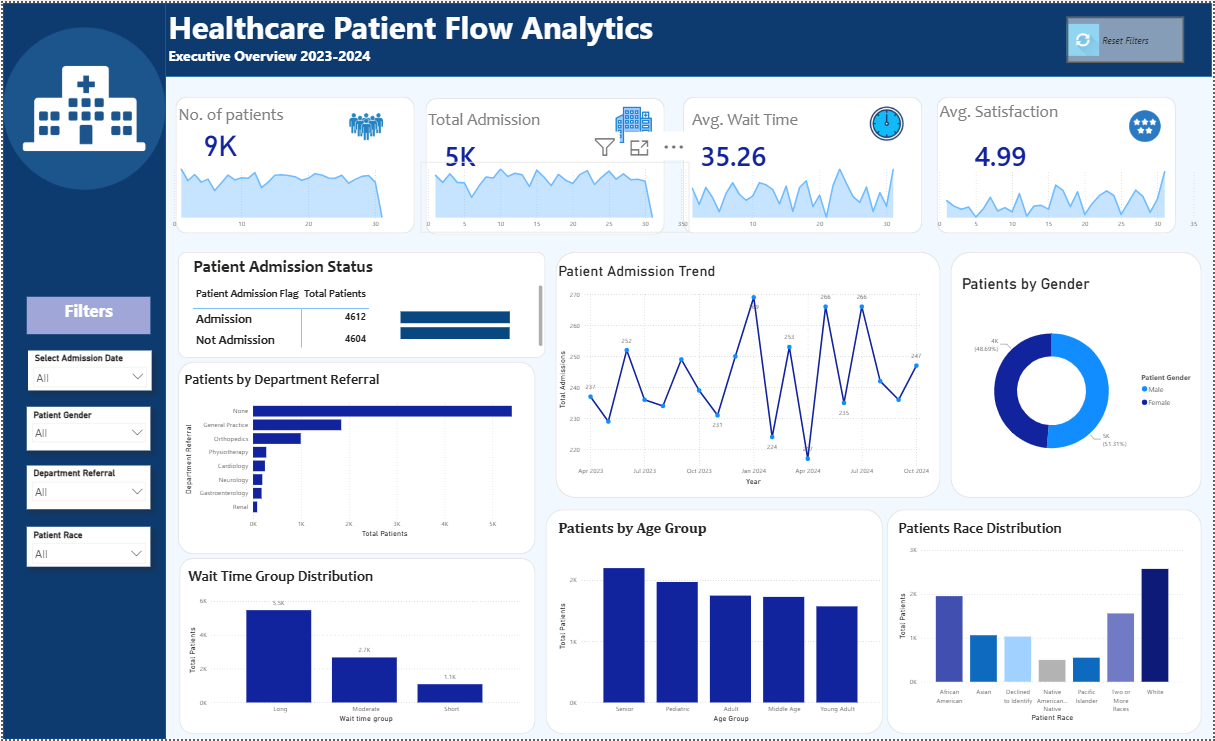

Layout of this report page (visuals, bound fields, positions):
{"tool":"powerbi","page":{"name":"Page 1","canvas":[2300,1400],"ordinal":0},"visuals":[{"type":"group","id":"g1","title":"Group 5","box":[0,0,310,1400.5],"z":0},{"type":"shape","box":[309.1,0,1990.2,140],"z":1000},{"type":"textbox","box":[309.1,0,939.2,140.3],"z":2000},{"type":"slicer","fields":{"Values":["healthcare_analytics_patient_flow_data.Patient Admission Date.Variation.Date Hierarchy.Year","healthcare_analytics_patient_flow_data.Patient Admission Date.Variation.Date Hierarchy.Month","healthcare_analytics_patient_flow_data.Patient Admission Date.Variation.Date Hierarchy.Day"]},"box":[47.6,661,235.4,76.1],"z":3000},{"type":"shape","box":[328.1,178.3,455,260],"z":4000},{"type":"cardVisual","fields":{"Data":["healthcare_analytics_patient_flow_data.Total Patients"]},"box":[356.7,235.4,218.8,71.3],"z":5000},{"type":"textbox","box":[328.1,187.8,328.1,59.4],"z":6000},{"type":"areaChart","fields":{"Y":["healthcare_analytics_patient_flow_data.Total Patients"],"Category":["healthcare_analytics_patient_flow_data.Patient Admission Date.Variation.Date Hierarchy.Day"]},"box":[311.5,302,475.5,135.5],"z":7000},{"type":"image","box":[646.7,202.1,88,66.6],"z":8000},{"type":"shape","box":[803.7,180.7,455,260],"z":9000},{"type":"shape","box":[1293.5,178.3,455,260],"z":10000},{"type":"shape","box":[1776.2,178.3,455,260],"z":11000},{"type":"textbox","box":[1305.4,197.4,290.1,73.7],"z":12000},{"type":"cardVisual","fields":{"Data":["healthcare_analytics_patient_flow_data.Average Wait Time"]},"box":[1326.8,247.3,154.6,83.2],"z":13000},{"type":"image","box":[1640.6,187.8,80.8,83.2],"z":14000},{"type":"image","box":[1150.8,195,97.5,73.7],"z":15000},{"type":"image","box":[2125.7,187.8,92.7,92.7],"z":16000},{"type":"cardVisual","fields":{"Data":["healthcare_analytics_patient_flow_data.Average Satisfaction"]},"box":[1819,247.3,185.5,83.2],"z":17000},{"type":"textbox","box":[803.7,197.4,368.5,71.3],"z":18000},{"type":"cardVisual","fields":{"Data":["healthcare_analytics_patient_flow_data.Total Admissions"]},"box":[810.8,247.3,137.9,83.2],"z":19000},{"type":"textbox","box":[1776.2,180.7,349.5,66.6],"z":20000},{"type":"areaChart","fields":{"Category":["healthcare_analytics_patient_flow_data.Patient Admission Date.Variation.Date Hierarchy.Day"],"Y":["healthcare_analytics_patient_flow_data.Total Admissions"]},"box":[794.2,302,511.2,135.5],"z":21000},{"type":"areaChart","fields":{"Category":["healthcare_analytics_patient_flow_data.Patient Admission Date.Variation.Date Hierarchy.Day"],"Y":["Avg(healthcare_analytics_patient_flow_data.Patient Waittime)"]},"box":[1284,302,475.5,135.5],"z":22000},{"type":"areaChart","fields":{"Y":["healthcare_analytics_patient_flow_data.Average Satisfaction"],"Category":["healthcare_analytics_patient_flow_data.Patient Admission Date.Variation.Date Hierarchy.Day"]},"box":[1766.7,306.7,513.6,130.8],"z":23000},{"type":"shape","box":[0,0,310,1400.5],"z":24000,"group":"g1"},{"type":"slicer","fields":{"Values":["healthcare_analytics_patient_flow_data.Patient Race"]},"box":[45.2,996.3,235.4,76.1],"z":24000},{"type":"image","box":[0,0,309.1,401.8],"z":25000,"group":"g1"},{"type":"shape","box":[332.9,473.2,699.1,202.1],"z":25000},{"type":"shape","box":[332.9,682.4,680,366.2],"z":26000},{"type":"pivotTable","title":"Patient Admission Status","fields":{"Rows":["healthcare_analytics_patient_flow_data.Patient Admission Flag"],"Values":["healthcare_analytics_patient_flow_data.Total Patients"]},"box":[356.7,466,675.3,195],"z":27000},{"type":"barChart","fields":{"Category":["healthcare_analytics_patient_flow_data.Patient Admission Flag"],"Y":["healthcare_analytics_patient_flow_data.Total Patients"]},"box":[751.4,558.8,280.6,102.2],"z":28000},{"type":"shape","box":[335.3,1055.7,677.7,335.3],"z":29000},{"type":"clusteredBarChart","title":"Patients by Department Referral","fields":{"Category":["healthcare_analytics_patient_flow_data.Department Referral"],"Y":["healthcare_analytics_patient_flow_data.Total Patients"]},"box":[340,699.1,649.1,323.4],"z":30000},{"type":"shape","box":[1051,473.2,732.3,468.4],"z":31000},{"type":"lineChart","title":"Patient Admission Trend","fields":{"Y":["healthcare_analytics_patient_flow_data.Total Admissions"],"Category":["healthcare_analytics_patient_flow_data.Patient Admission Date.Variation.Date Hierarchy.Year","healthcare_analytics_patient_flow_data.Patient Admission Date.Variation.Date Hierarchy.Quarter","healthcare_analytics_patient_flow_data.Patient Admission Date.Variation.Date Hierarchy.Month"]},"box":[1051,494.6,715.7,428],"z":32000},{"type":"shape","box":[1802.3,473.2,477.9,468.4],"z":33000},{"type":"donutChart","title":"Patients by Gender","fields":{"Category":["healthcare_analytics_patient_flow_data.Patient Gender"],"Y":["healthcare_analytics_patient_flow_data.Total Patients"]},"box":[1819,516,461.3,397.1],"z":34000},{"type":"clusteredColumnChart","title":"Wait Time Group Distribution","fields":{"Category":["healthcare_analytics_patient_flow_data.Wait time group"],"Y":["healthcare_analytics_patient_flow_data.Total Patients"]},"box":[347.1,1072.4,642,302],"z":35000},{"type":"shape","box":[1031.9,963,642,428],"z":36000},{"type":"clusteredColumnChart","title":"Patients by Age Group","fields":{"Category":["healthcare_analytics_patient_flow_data.Age Group"],"Y":["healthcare_analytics_patient_flow_data.Total Patients"]},"box":[1051,982,623,392.3],"z":37000},{"type":"slicer","fields":{"Values":["healthcare_analytics_patient_flow_data.Patient Gender"]},"box":[45.2,768,235.4,83.2],"z":38000},{"type":"slicer","fields":{"Values":["healthcare_analytics_patient_flow_data.Department Referral"]},"box":[45.2,879.8,235.4,83.2],"z":39000},{"type":"image","box":[2023.4,26.2,61.5,88.1],"z":40000},{"type":"actionButton","box":[2023.4,26.2,223.2,88.1],"z":41000},{"type":"shape","box":[1681.1,963,599.2,428],"z":42000},{"type":"textbox","box":[45.2,558.8,235.4,71.3],"z":42500},{"type":"columnChart","title":"Patients Race Distribution","fields":{"Category":["healthcare_analytics_patient_flow_data.Patient Race"],"Y":["healthcare_analytics_patient_flow_data.Total Patients"]},"box":[1697.7,982,551.6,389.9],"z":43000}]}

Visuals, with their boxes in screenshot pixels (x1, y1, x2, y2), scaled from the page's 2300x1400 canvas onto the 1215x741 screenshot:
"Group 5" group: left=0, top=0, right=164, bottom=740
shape: left=163, top=0, right=1214, bottom=74
textbox: left=163, top=0, right=659, bottom=74
slicer - healthcare_analytics_patient_flow_data.Patient Admission Date.Variation.Date Hierarchy.Year x healthcare_analytics_patient_flow_data.Patient Admission Date.Variation.Date Hierarchy.Month: left=25, top=350, right=149, bottom=390
shape: left=173, top=94, right=414, bottom=232
cardVisual - healthcare_analytics_patient_flow_data.Total Patients: left=188, top=125, right=304, bottom=162
textbox: left=173, top=99, right=347, bottom=131
areaChart - healthcare_analytics_patient_flow_data.Total Patients x healthcare_analytics_patient_flow_data.Patient Admission Date.Variation.Date Hierarchy.Day: left=165, top=160, right=416, bottom=232
image: left=342, top=107, right=388, bottom=142
shape: left=425, top=96, right=665, bottom=233
shape: left=683, top=94, right=924, bottom=232
shape: left=938, top=94, right=1179, bottom=232
textbox: left=690, top=104, right=843, bottom=143
cardVisual - healthcare_analytics_patient_flow_data.Average Wait Time: left=701, top=131, right=783, bottom=175
image: left=867, top=99, right=909, bottom=143
image: left=608, top=103, right=659, bottom=142
image: left=1123, top=99, right=1172, bottom=148
cardVisual - healthcare_analytics_patient_flow_data.Average Satisfaction: left=961, top=131, right=1059, bottom=175
textbox: left=425, top=104, right=619, bottom=142
cardVisual - healthcare_analytics_patient_flow_data.Total Admissions: left=428, top=131, right=501, bottom=175
textbox: left=938, top=96, right=1123, bottom=131
areaChart - healthcare_analytics_patient_flow_data.Patient Admission Date.Variation.Date Hierarchy.Day x healthcare_analytics_patient_flow_data.Total Admissions: left=420, top=160, right=690, bottom=232
areaChart - healthcare_analytics_patient_flow_data.Patient Admission Date.Variation.Date Hierarchy.Day x Avg(healthcare_analytics_patient_flow_data.Patient Waittime): left=678, top=160, right=929, bottom=232
areaChart - healthcare_analytics_patient_flow_data.Average Satisfaction x healthcare_analytics_patient_flow_data.Patient Admission Date.Variation.Date Hierarchy.Day: left=933, top=162, right=1205, bottom=232
shape: left=0, top=0, right=164, bottom=740
slicer - healthcare_analytics_patient_flow_data.Patient Race: left=24, top=527, right=148, bottom=568
image: left=0, top=0, right=163, bottom=213
shape: left=176, top=250, right=545, bottom=357
shape: left=176, top=361, right=535, bottom=555
"Patient Admission Status" pivotTable: left=188, top=247, right=545, bottom=350
barChart - healthcare_analytics_patient_flow_data.Patient Admission Flag x healthcare_analytics_patient_flow_data.Total Patients: left=397, top=296, right=545, bottom=350
shape: left=177, top=559, right=535, bottom=736
"Patients by Department Referral" clusteredBarChart: left=180, top=370, right=523, bottom=541
shape: left=555, top=250, right=942, bottom=498
"Patient Admission Trend" lineChart: left=555, top=262, right=933, bottom=488
shape: left=952, top=250, right=1205, bottom=498
"Patients by Gender" donutChart: left=961, top=273, right=1205, bottom=483
"Wait Time Group Distribution" clusteredColumnChart: left=183, top=568, right=523, bottom=727
shape: left=545, top=510, right=884, bottom=736
"Patients by Age Group" clusteredColumnChart: left=555, top=520, right=884, bottom=727
slicer - healthcare_analytics_patient_flow_data.Patient Gender: left=24, top=406, right=148, bottom=451
slicer - healthcare_analytics_patient_flow_data.Department Referral: left=24, top=466, right=148, bottom=510
image: left=1069, top=14, right=1101, bottom=60
actionButton: left=1069, top=14, right=1187, bottom=60
shape: left=888, top=510, right=1205, bottom=736
textbox: left=24, top=296, right=148, bottom=334
"Patients Race Distribution" columnChart: left=897, top=520, right=1188, bottom=726
